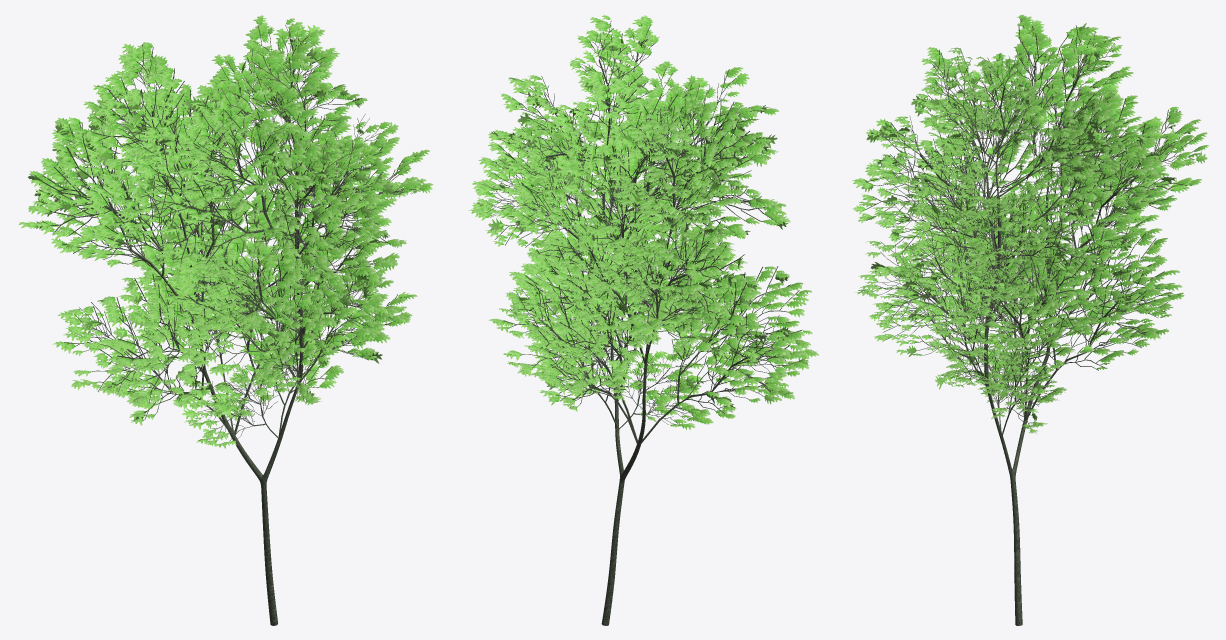
File: Tree_B.fbx
3 renders of one model, left to right at view 1: azimuth 30°, elevation 25°; view 2: azimuth 150°, elevation 25°; view 3: azimuth 270°, elevation 25°, orthographic. The views are drawn at different scales.
Visible parts, largest first — view 1: Tree_B; view 2: Tree_B; view 3: Tree_B.
Boxes of the visible parts, x1,y1,x2,y2 form: Tree_B: (18,15,433,625); Tree_B: (468,15,818,625); Tree_B: (852,14,1208,625).
Size of the model in its own units: 6.5 by 6.04 by 10.63.
